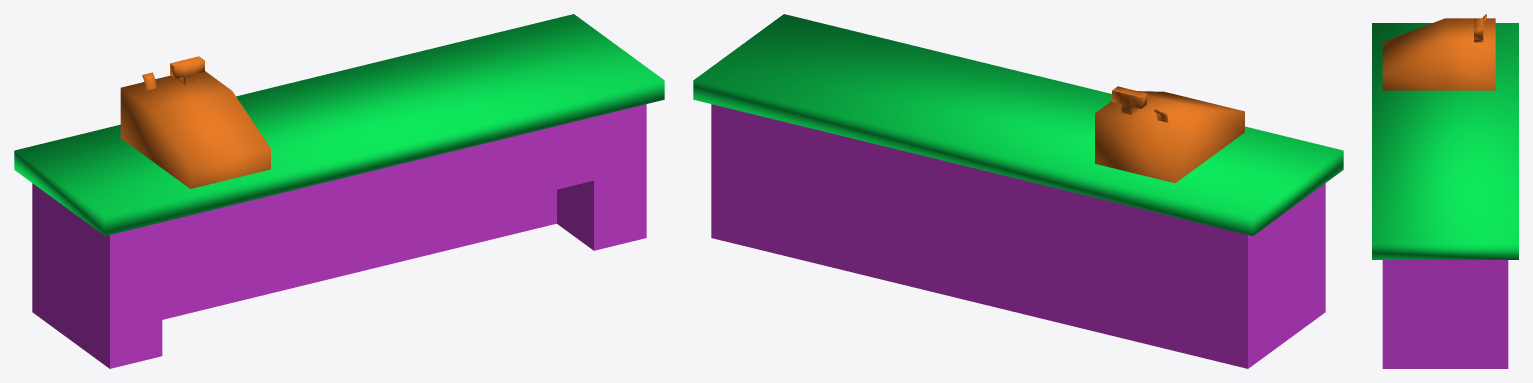
Rendered from CajeroLaura_low.fbx.
3 renders of one model, left to right at view 1: azimuth 30°, elevation 25°; view 2: azimuth 150°, elevation 25°; view 3: azimuth 270°, elevation 25°, orthographic. The views are drawn at different scales.
Visible parts, largest first — view 1: Base_low, Encimera_low, Caja_low; view 2: Base_low, Encimera_low, Caja_low; view 3: Encimera_low, Base_low, Caja_low.
Boxes of the visible parts, x1,y1,x2,y2 form: Base_low: (32,104,646,368); Encimera_low: (14,14,664,235); Caja_low: (120,56,270,188); Base_low: (711,104,1325,368); Encimera_low: (693,14,1343,235); Caja_low: (1095,86,1244,183); Encimera_low: (1372,23,1518,259); Base_low: (1382,260,1508,368); Caja_low: (1382,14,1495,90).
Size of the model in its own units: 209 by 82.01 by 58.58.
